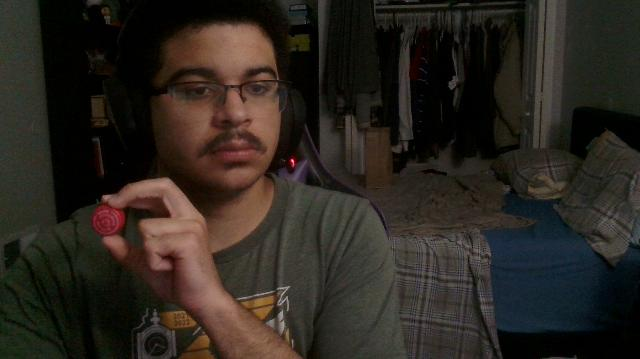cap: (91, 203, 125, 237)
